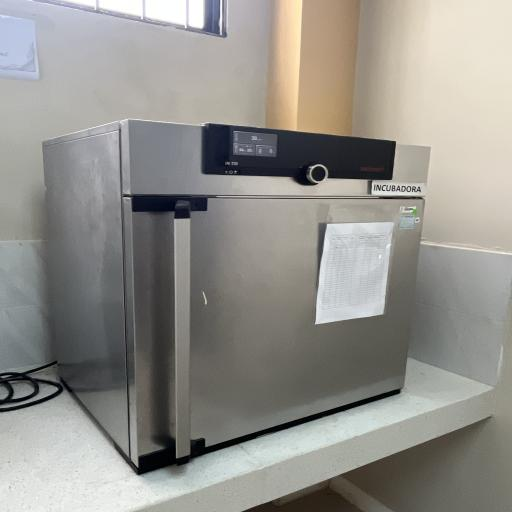Incubadora: (26, 109, 440, 502)
